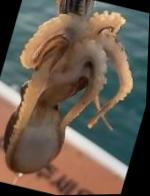Cephalopod: (4, 0, 134, 175)
